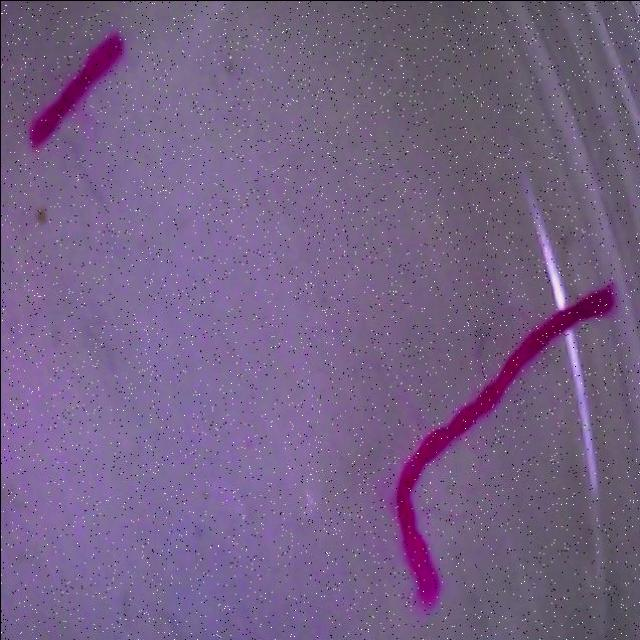Fibre: (381, 286, 640, 617), (15, 22, 136, 162)
